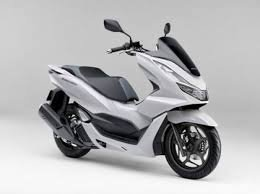motor: (35, 30, 226, 179)
